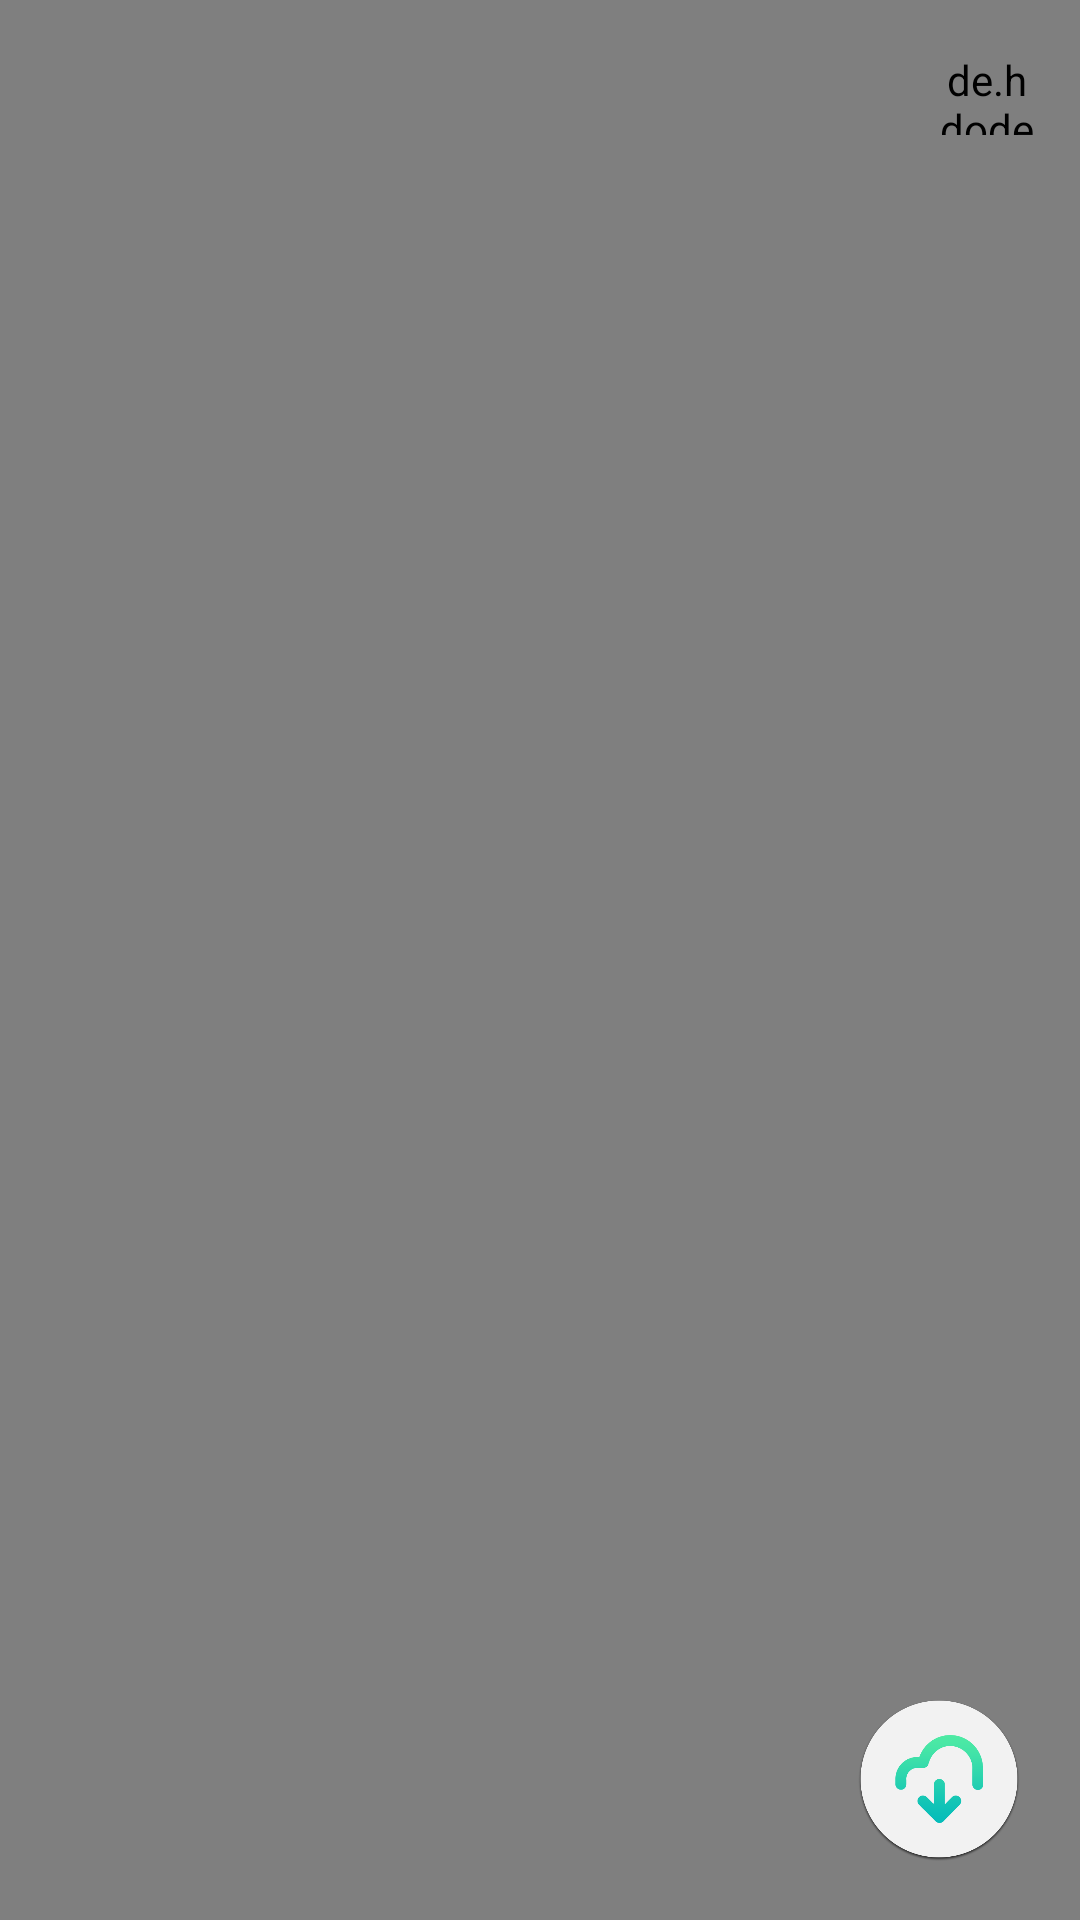

Icons on this 1080*1920 Android screen, each with its box as (x1, y1, x2, y2):
downloadmyimage: (860, 1701, 1018, 1860)
